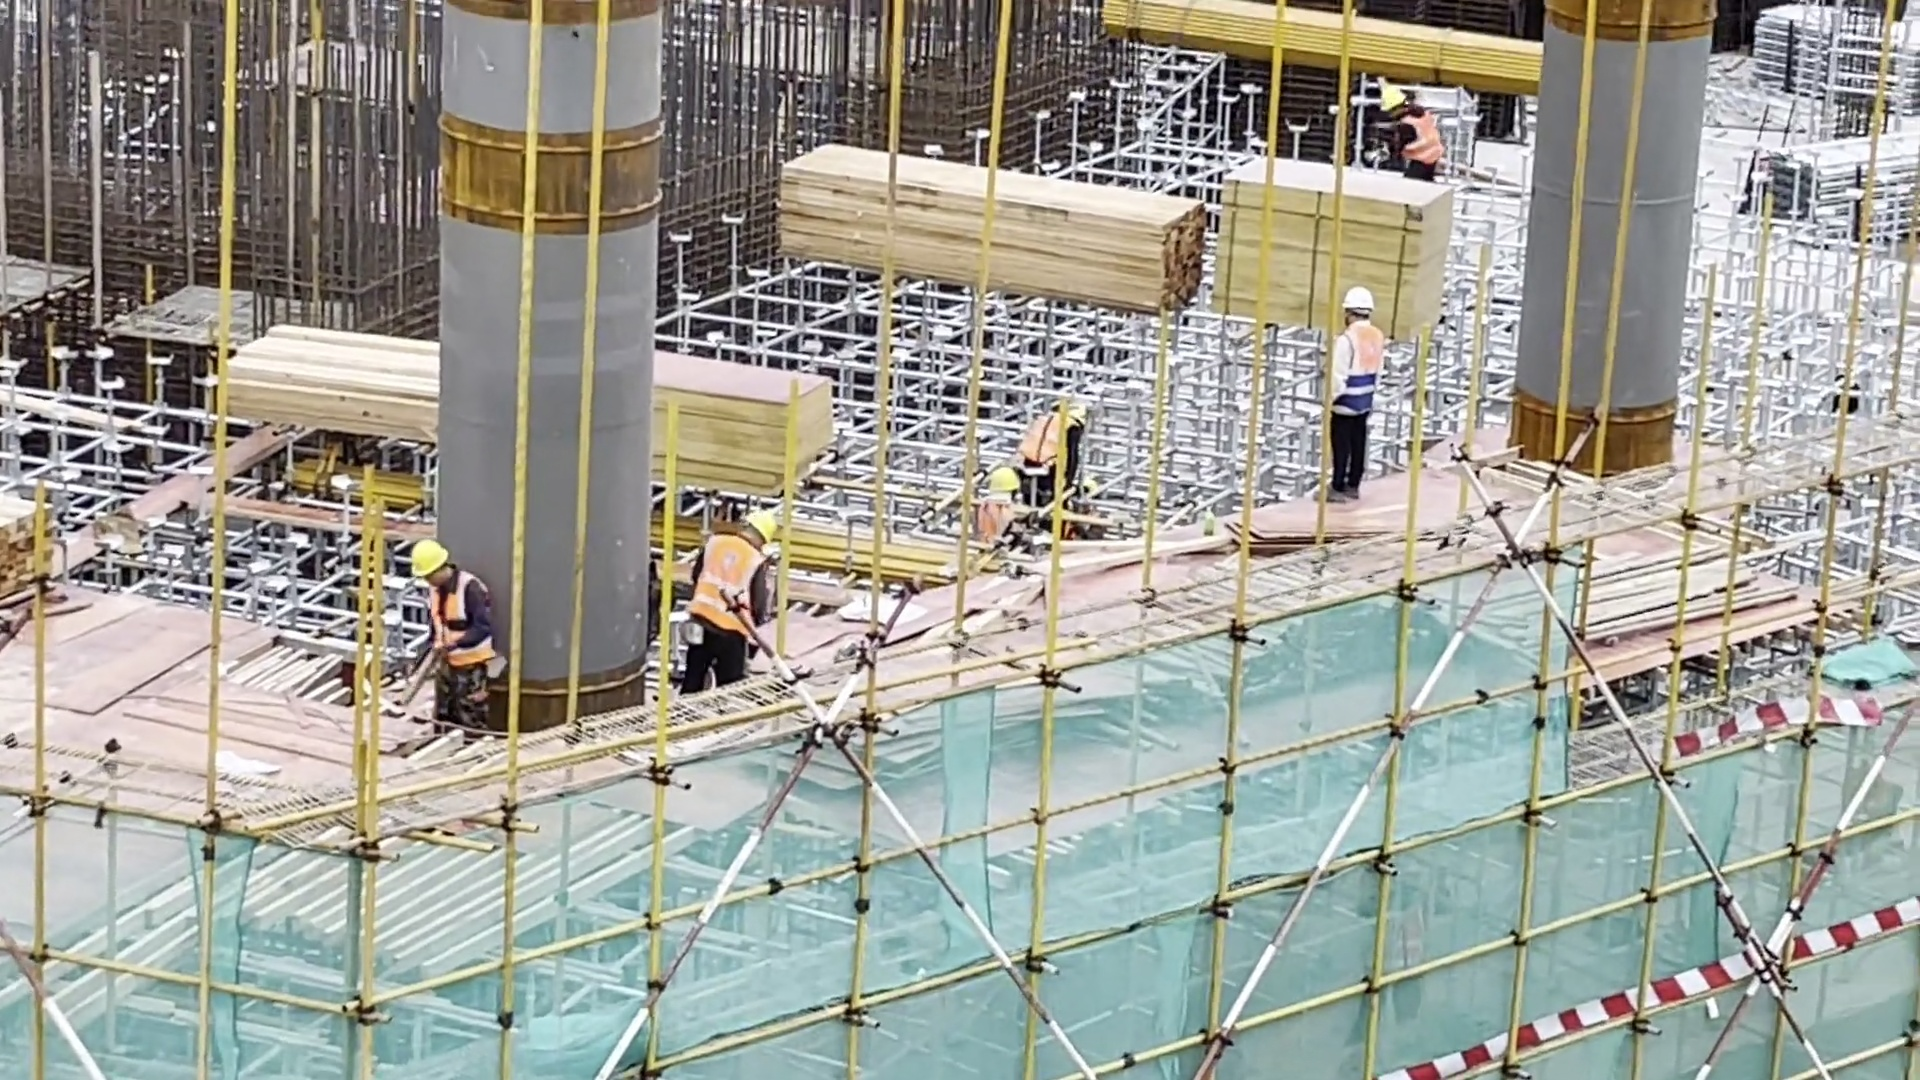helmet: (401, 528, 452, 573), (734, 498, 786, 540), (1340, 283, 1387, 327), (1375, 78, 1415, 122), (987, 463, 1023, 507)
person: (401, 531, 521, 745), (692, 509, 779, 693), (1331, 285, 1386, 510), (1372, 72, 1446, 188), (1029, 397, 1097, 503), (976, 461, 1026, 556)
vest: (416, 571, 497, 657), (692, 522, 753, 636), (1343, 332, 1390, 425), (1032, 396, 1072, 459), (1400, 118, 1442, 165), (976, 504, 1019, 541)
